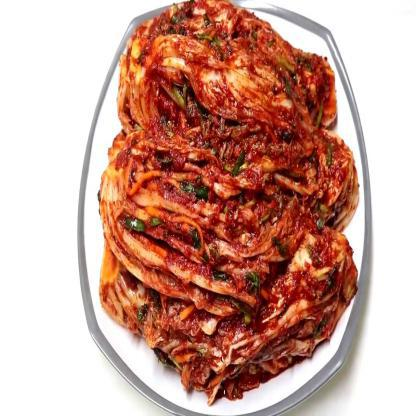kimchi: (94, 4, 360, 387)
